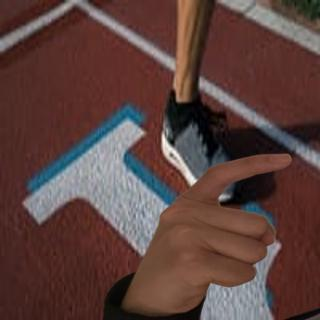WHY: (122, 139, 301, 313)
